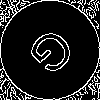G: (25, 25, 85, 85)
